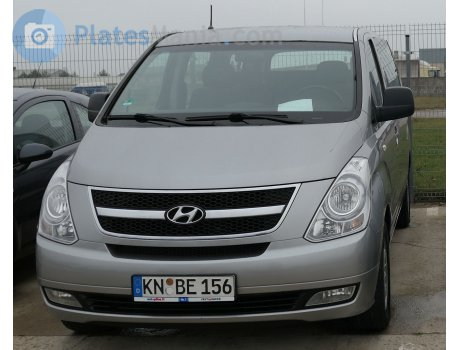License Plates: (138, 275, 231, 297)
